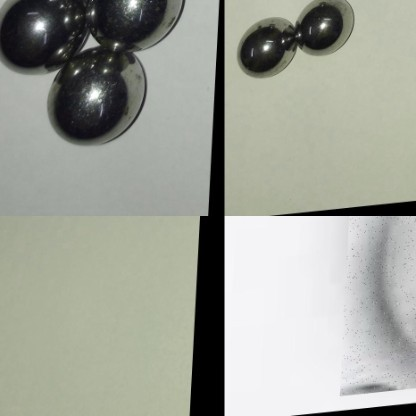ironball: (343, 216, 415, 401), (47, 46, 143, 147), (0, 0, 95, 71), (93, 0, 191, 51), (232, 15, 304, 78), (296, 0, 364, 54)
